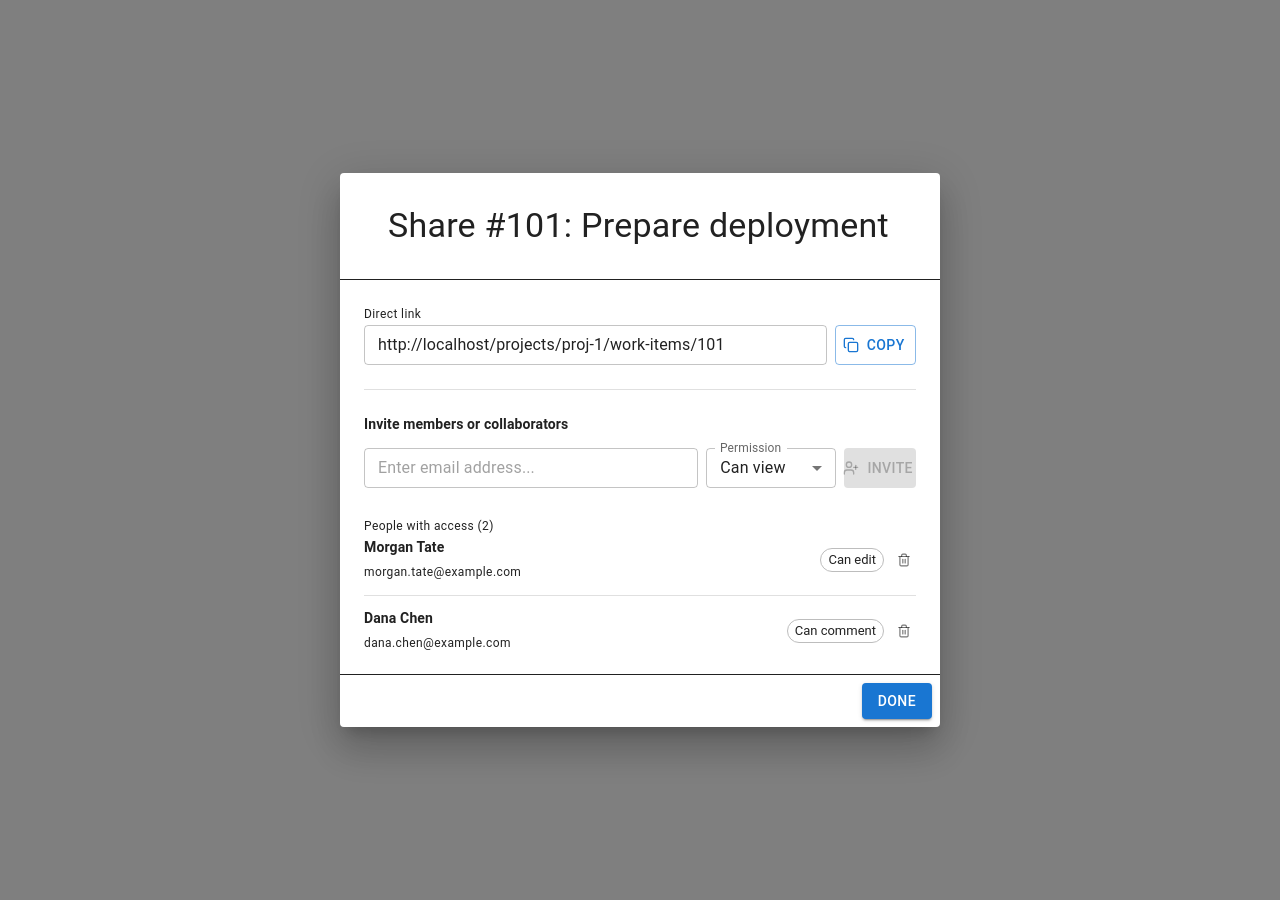
it: WorkItemShareModal › renders share link, invite field, and existing shared members
Expected: the heading "Share #101: Prepare deployment" is shown, [388,205,889,245]
Expected: the field showing "projects/proj-1/work-items/101" is shown, [364,325,827,365]
Step 1. Type "alex@example.com" into the field named "Member email address" → x=531, y=468, box [364,448,698,488]
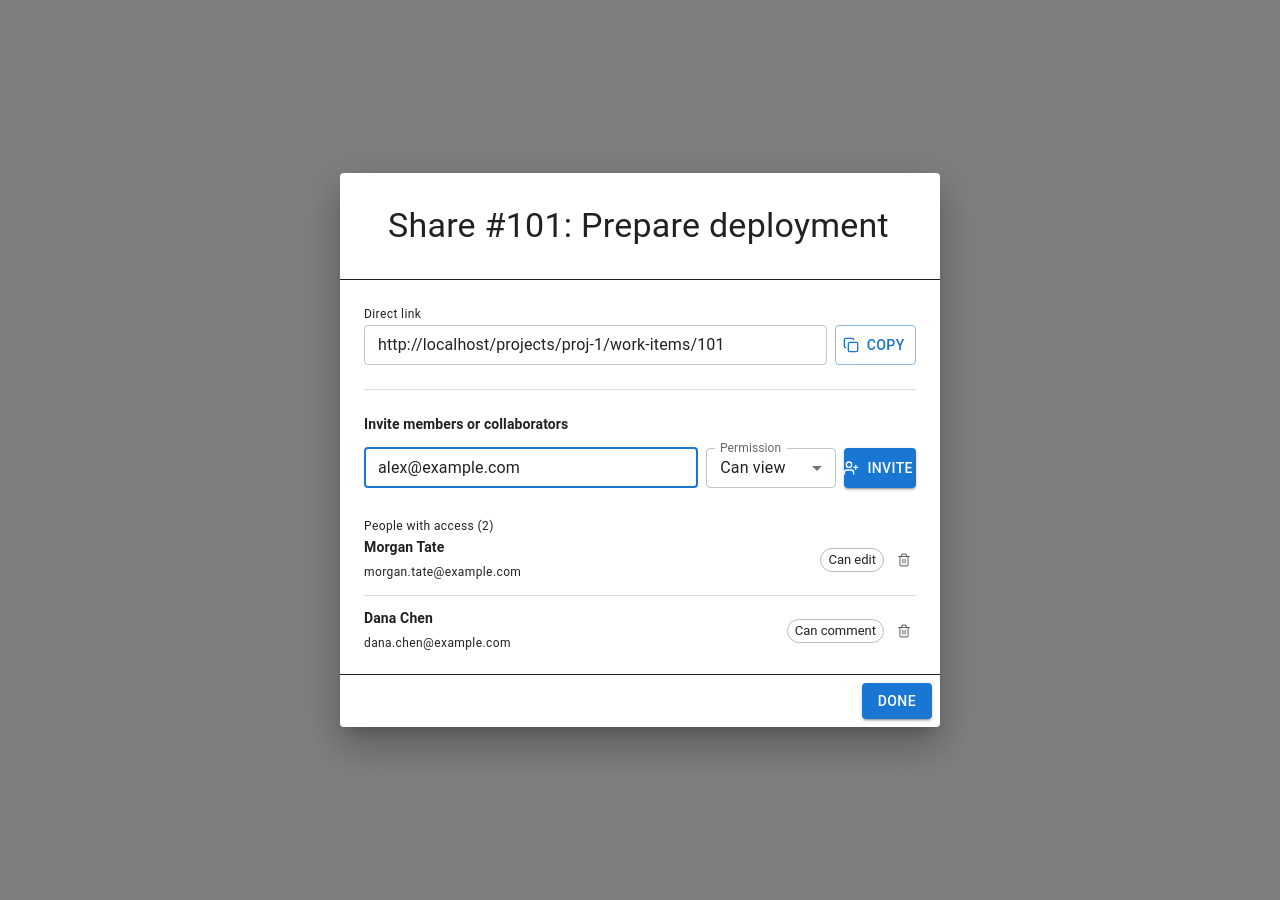
Step 2. Click the button "Invite" → x=880, y=468, box [844,448,916,488]
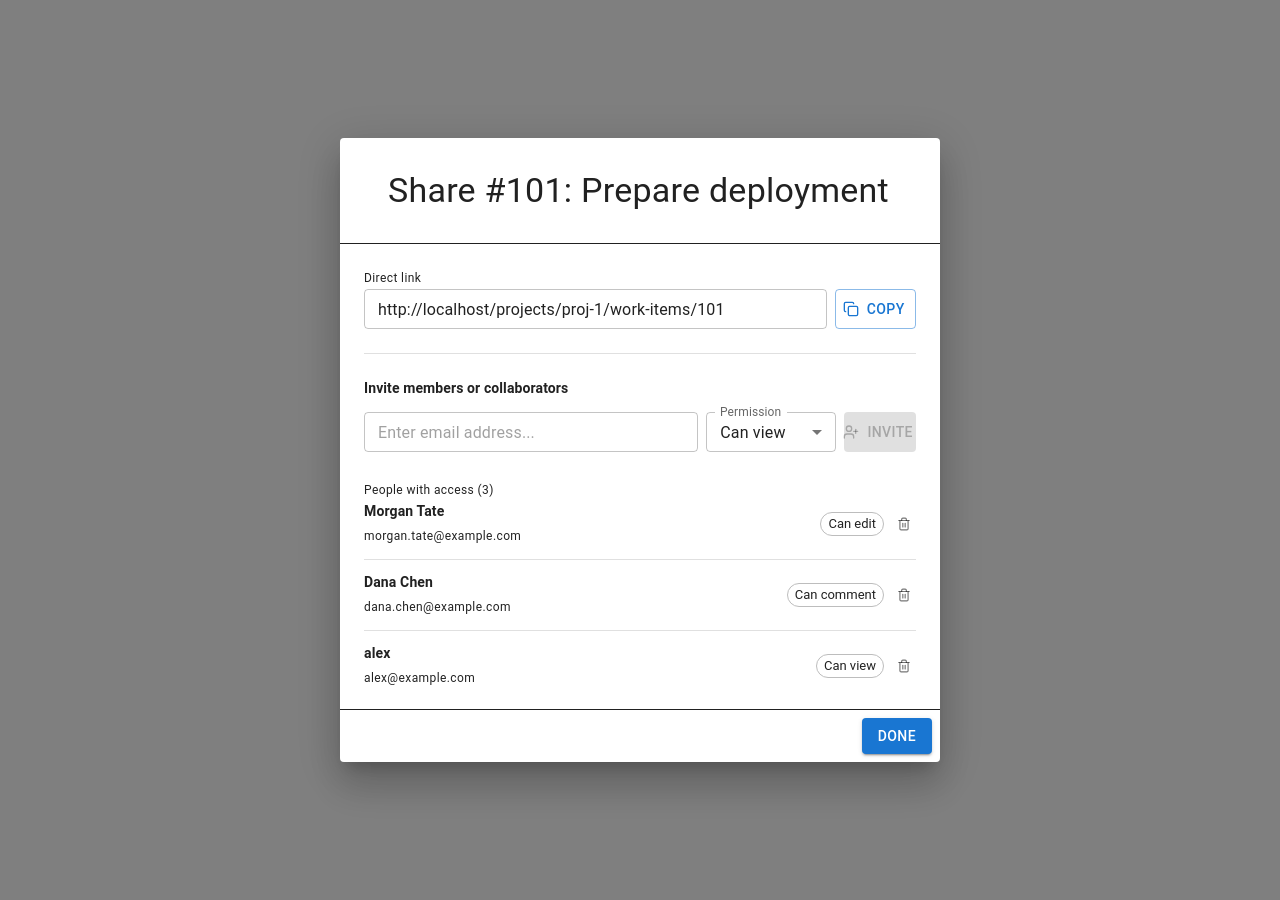
Expected: the text "alex" is shown, [364,645,390,661]
Expected: the text "alex@example.com" is shown, [364,671,475,685]
Step 3. Click the button named "Remove access for Dana Chen" → x=904, y=595, box [892,583,916,607]
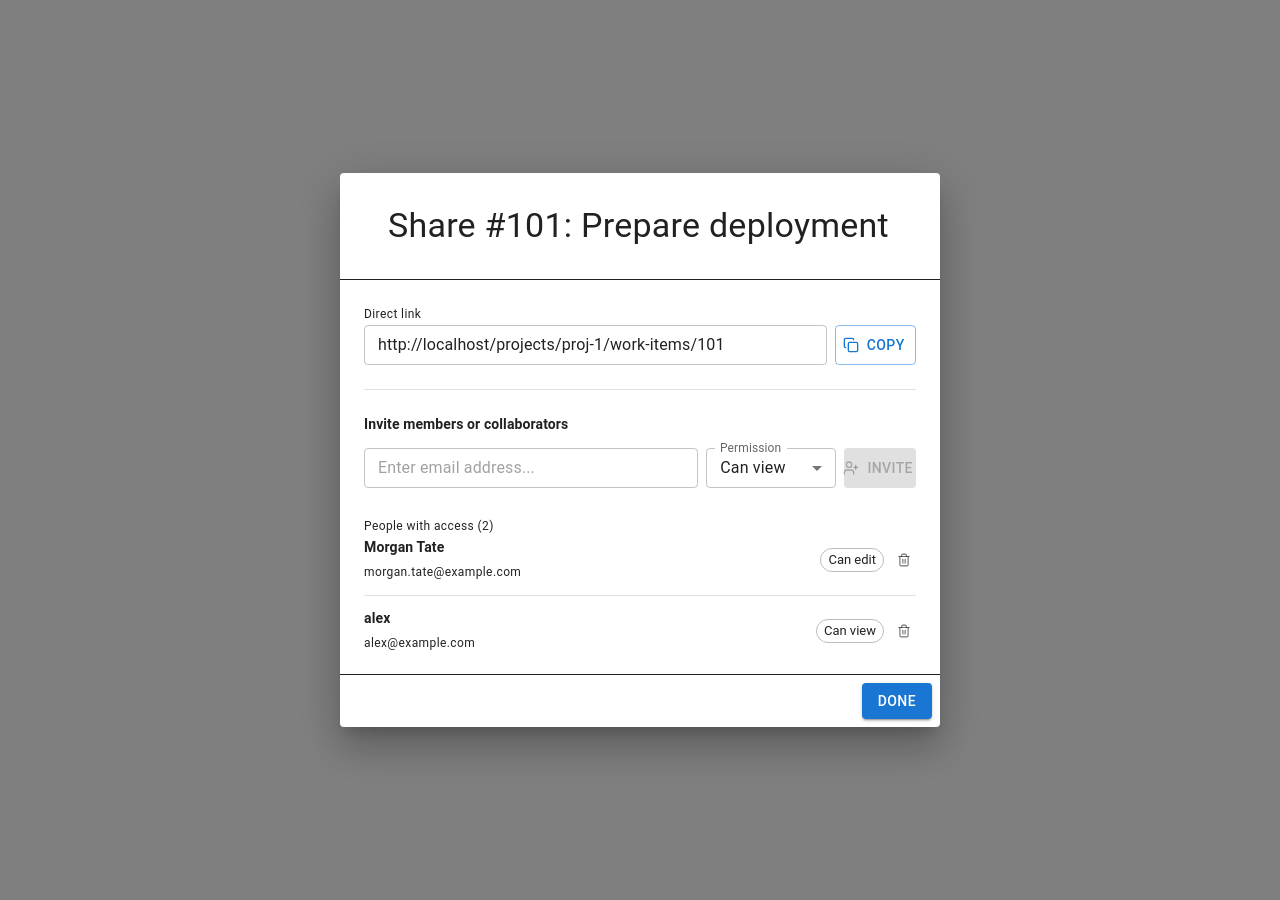
Expected: the text "dana.chen@example.com" is gone
